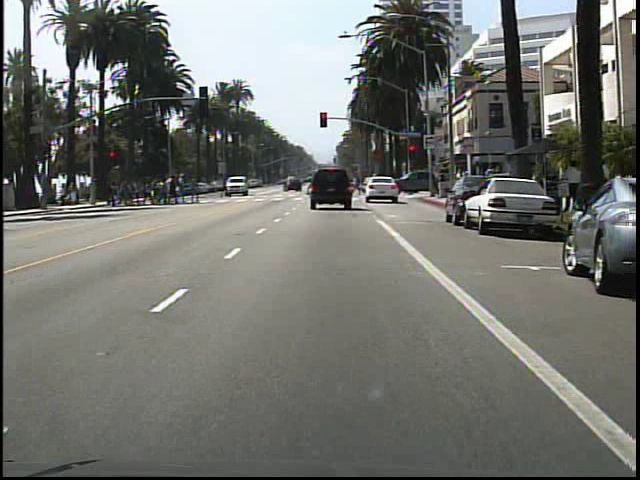person: (559, 156, 585, 214), (591, 155, 612, 212), (214, 172, 234, 201)
